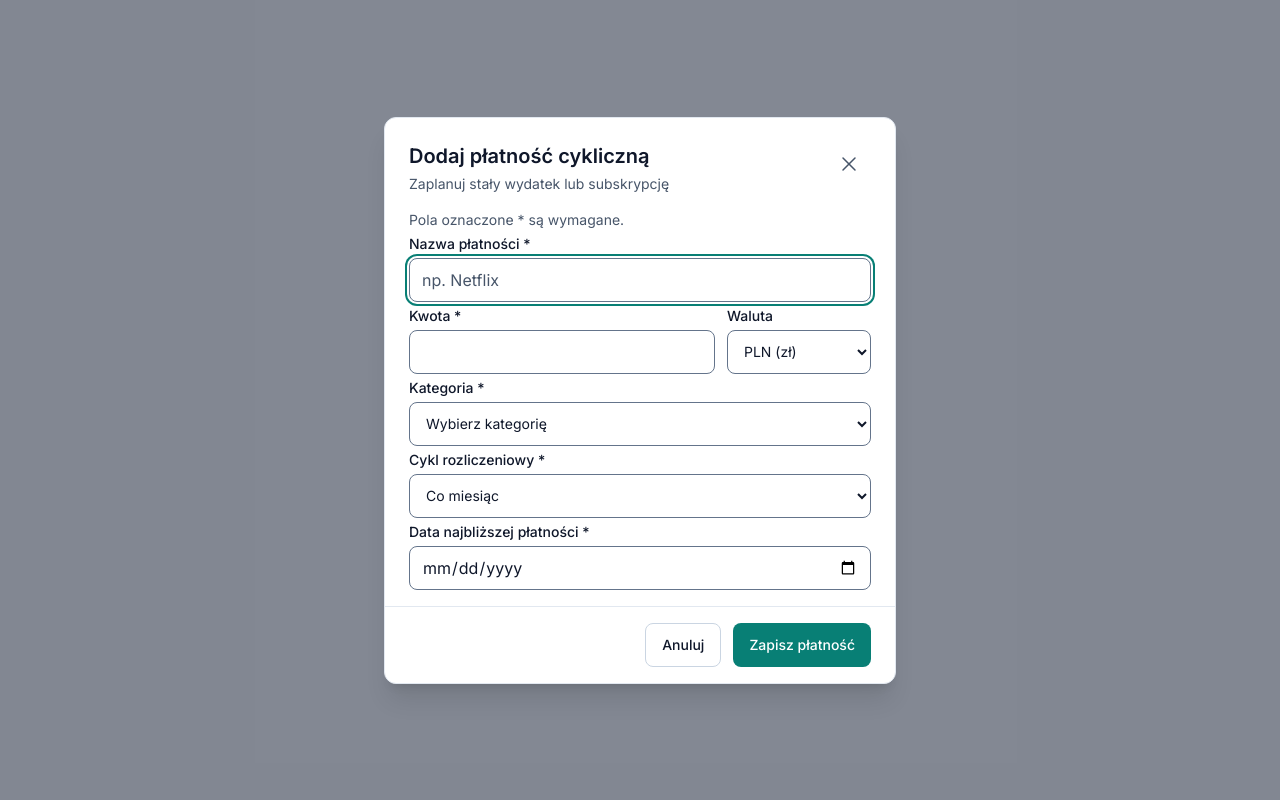
Test case: RecurringPaymentDialog › shows a 400 error of the frequency under the select and focuses it
Type "Netflix" into the field labelled "Nazwa płatności *" at (640, 280), box [409,258,871,302]
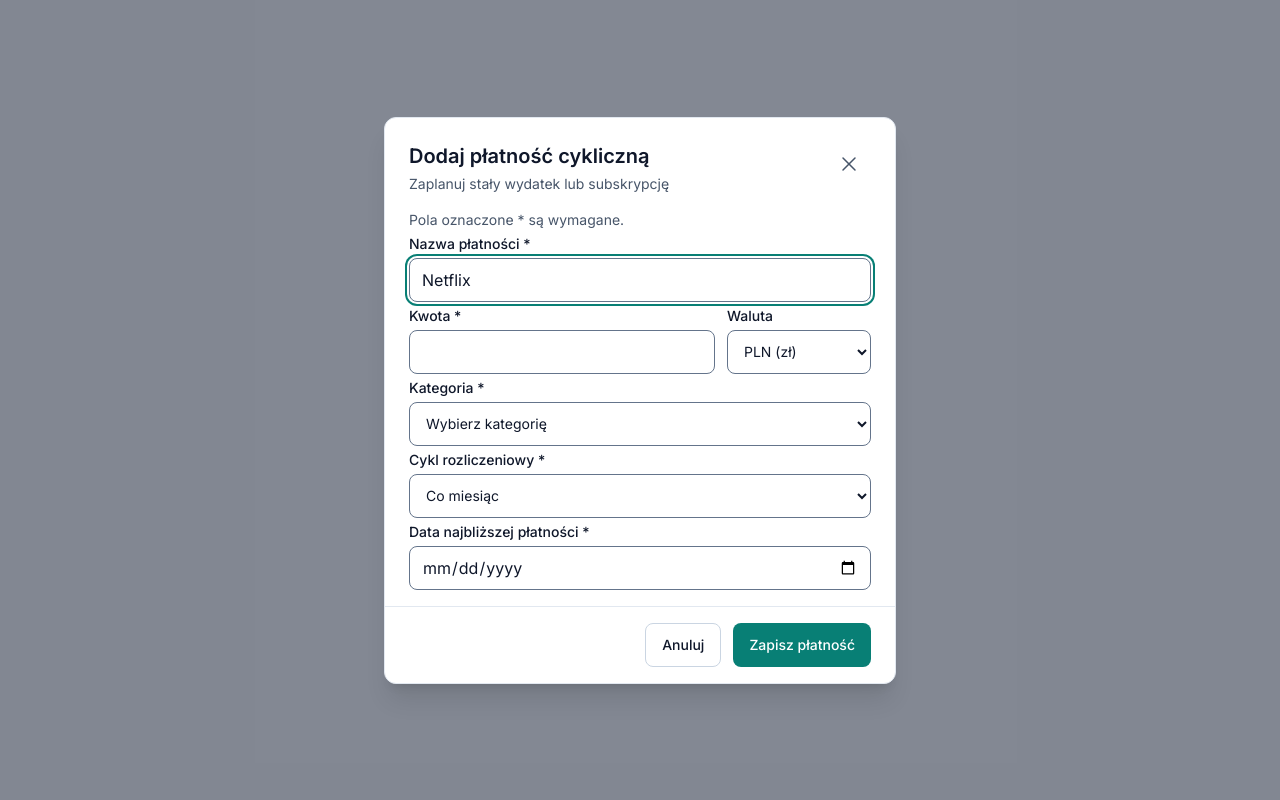
Type "43" into the field labelled "Kwota *" at (562, 352), box [409,330,715,374]
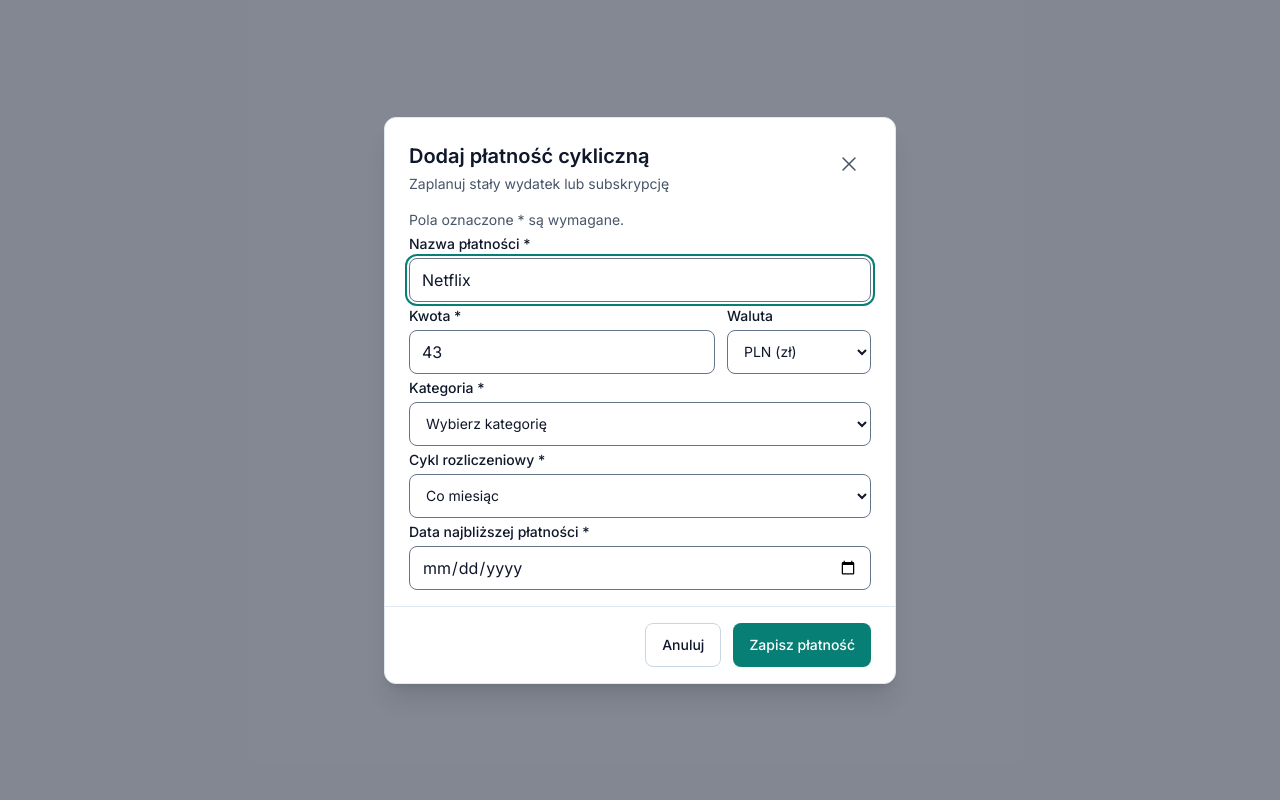
Select "Rozrywka" in the dropdown labelled "Kategoria *" at (640, 424), box [409,402,871,446]
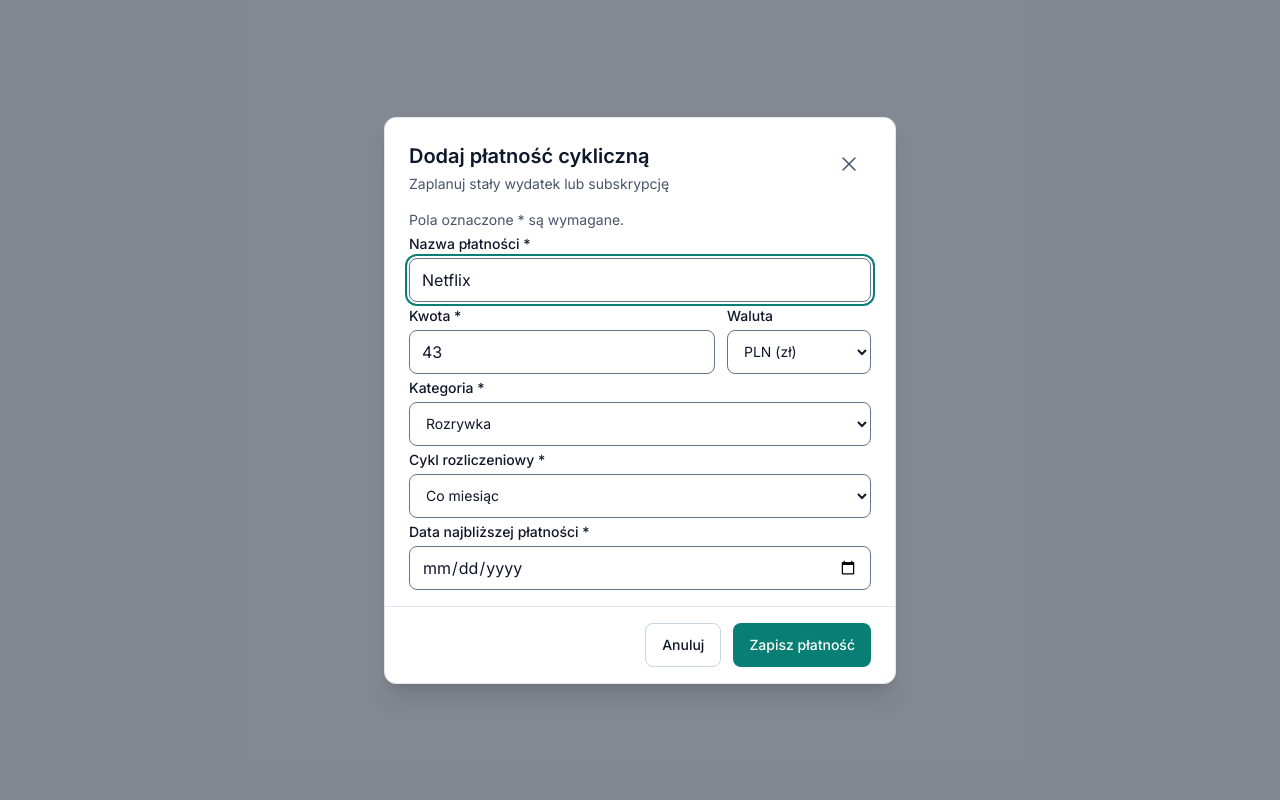
Type "2026-12-01" into the date field labelled "Data najbliższej płatności *" at (640, 568), box [409,546,871,590]
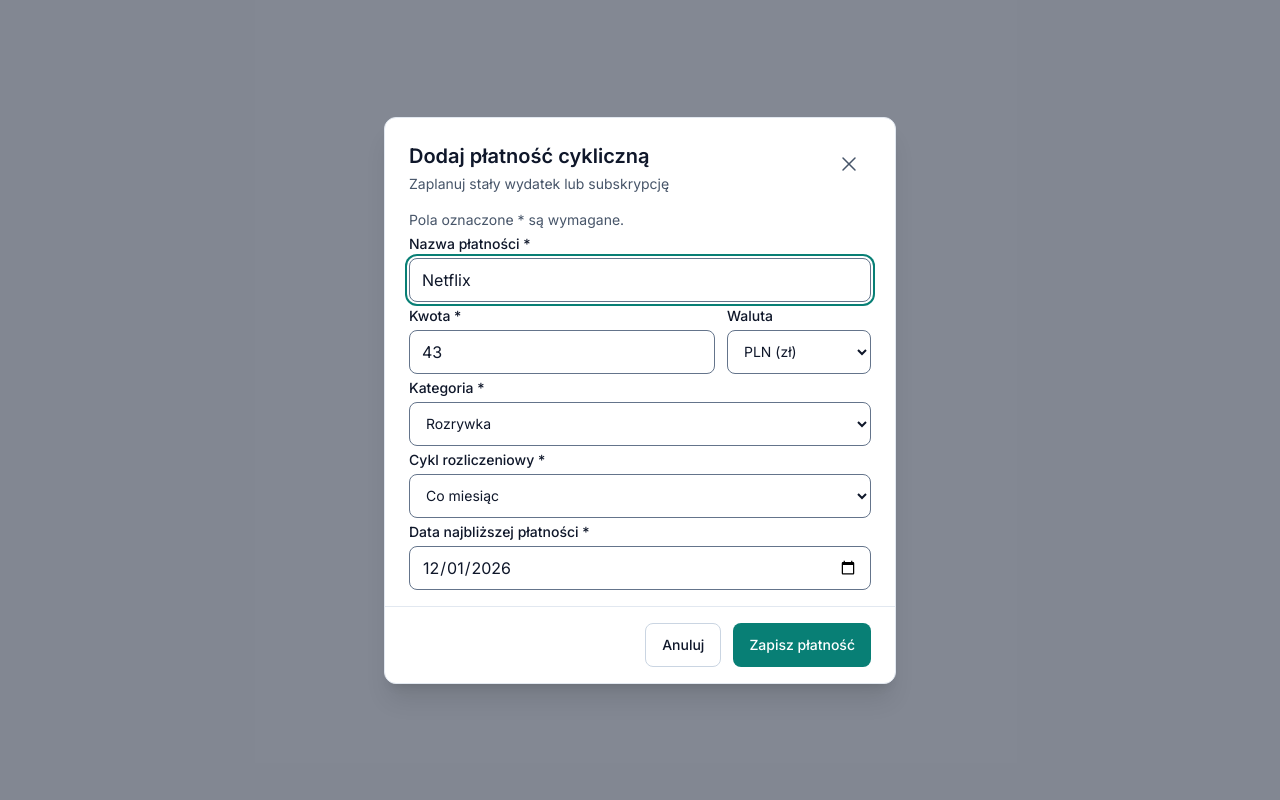
Click the button "Zapisz płatność" at (802, 644), box [733,622,871,666]
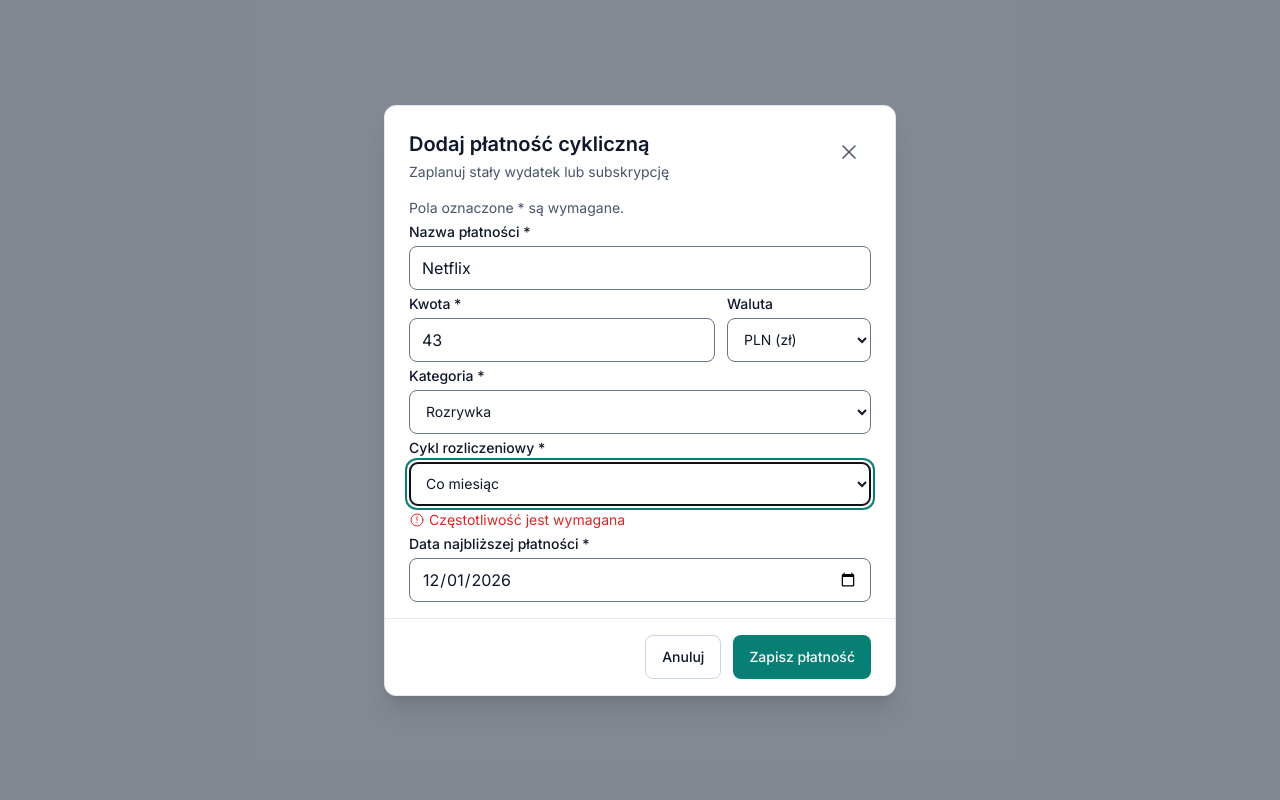
Expected: the message reads "Częstotliwość jest wymagana", [429,510,625,528]
